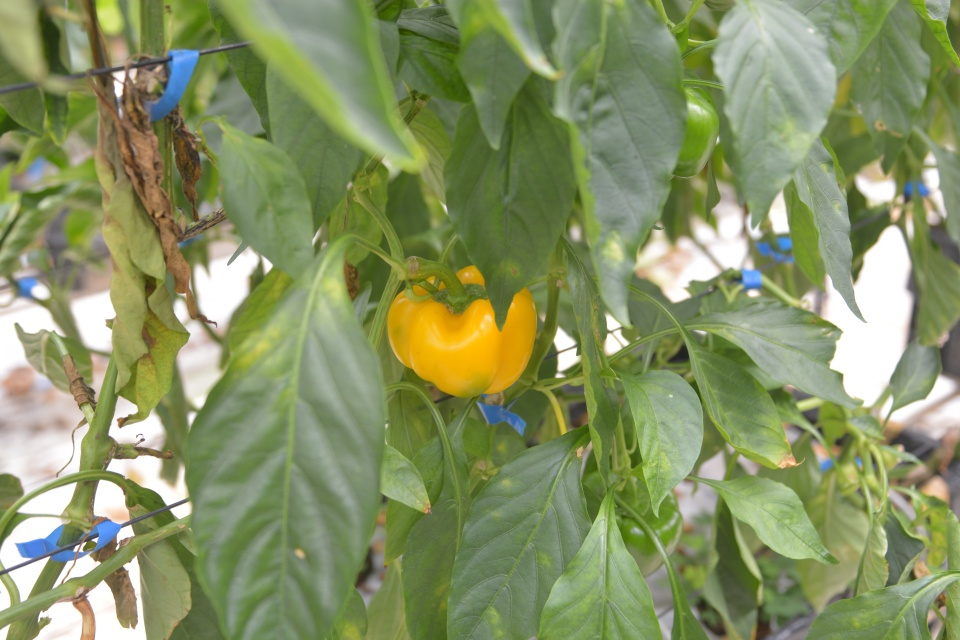fruit: (384, 263, 542, 400), (670, 64, 722, 181)
pedicle: (432, 282, 489, 315)
